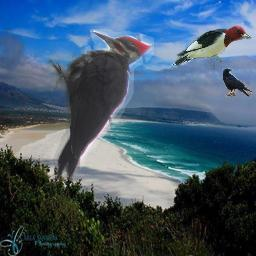Crow: (222, 67, 252, 97)
Woodpecker: (47, 29, 154, 180), (168, 22, 254, 72)
